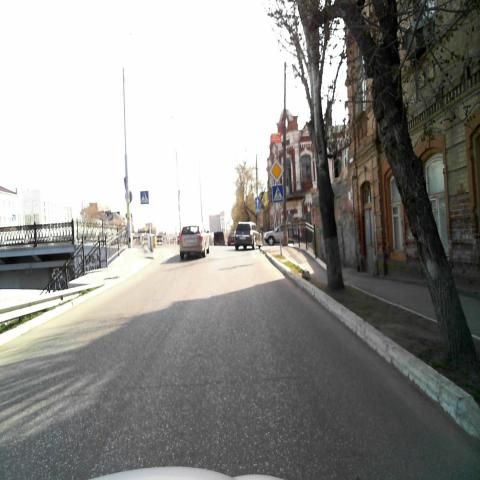2_1: (270, 158, 283, 182)
5_19_1: (273, 184, 283, 202), (140, 191, 148, 204), (255, 205, 260, 214)
5_5: (255, 197, 260, 205)
